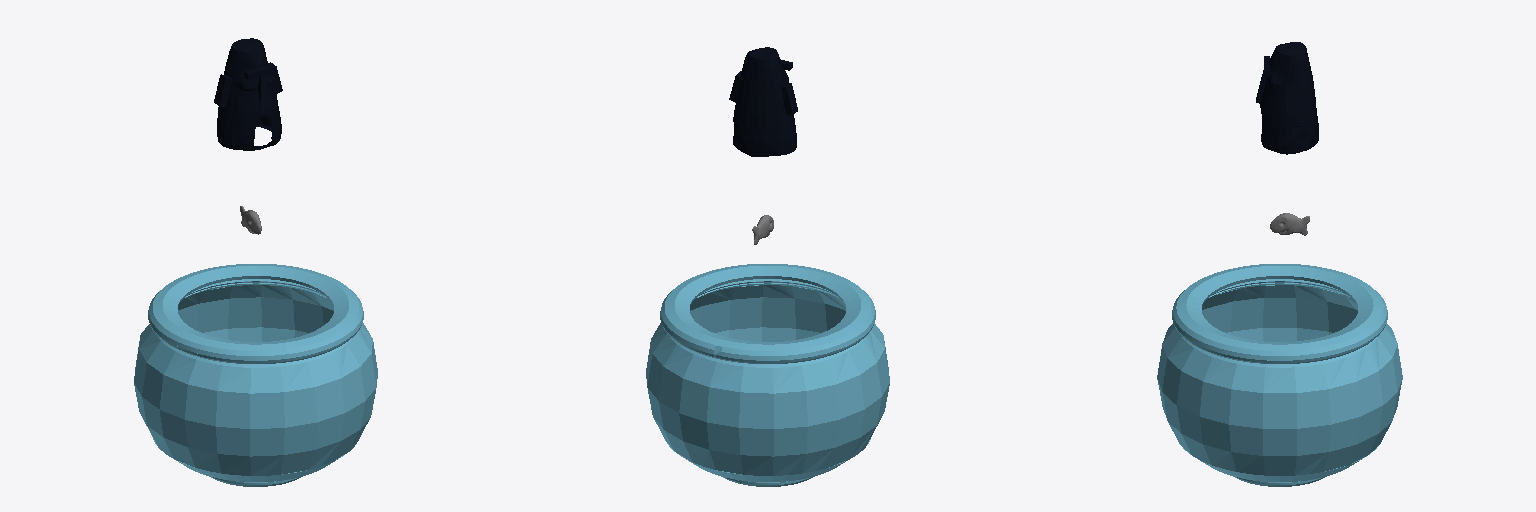
Rendered from SquidHouseUV.obj.
3 views of the same model, side by side, from view 1: azimuth 30°, elevation 25°; view 2: azimuth 150°, elevation 25°; view 3: azimuth 270°, elevation 25° (orthographic).
Parts seen in each view (by area): view 1: FishBowl:revolvedSurface1, SquidHouseOBJ:polySurface1; view 2: FishBowl:revolvedSurface1, SquidHouseOBJ:polySurface1; view 3: FishBowl:revolvedSurface1, SquidHouseOBJ:polySurface1, FishBowl:polySurface1.
Boxes of the visible parts, x1=… form: FishBowl:revolvedSurface1: x1=134, y1=264, x2=377, y2=486; SquidHouseOBJ:polySurface1: x1=214, y1=38, x2=282, y2=150; FishBowl:revolvedSurface1: x1=646, y1=264, x2=889, y2=486; SquidHouseOBJ:polySurface1: x1=729, y1=47, x2=797, y2=156; FishBowl:revolvedSurface1: x1=1157, y1=264, x2=1402, y2=486; SquidHouseOBJ:polySurface1: x1=1256, y1=42, x2=1318, y2=154; FishBowl:polySurface1: x1=1270, y1=213, x2=1309, y2=235.
Bounding box in the file's own units: 24.43 × 46.13 × 24.69.